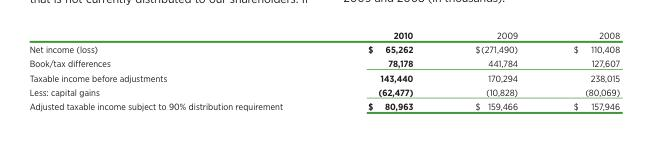table: (28, 29, 619, 111)
table column: (28, 29, 324, 111), (324, 29, 443, 111), (443, 29, 544, 111), (544, 29, 619, 111)
table column header: (28, 29, 619, 41)
table row: (28, 41, 619, 56), (28, 56, 619, 70), (28, 70, 619, 84), (28, 84, 619, 98), (28, 98, 619, 111), (28, 29, 619, 41)
